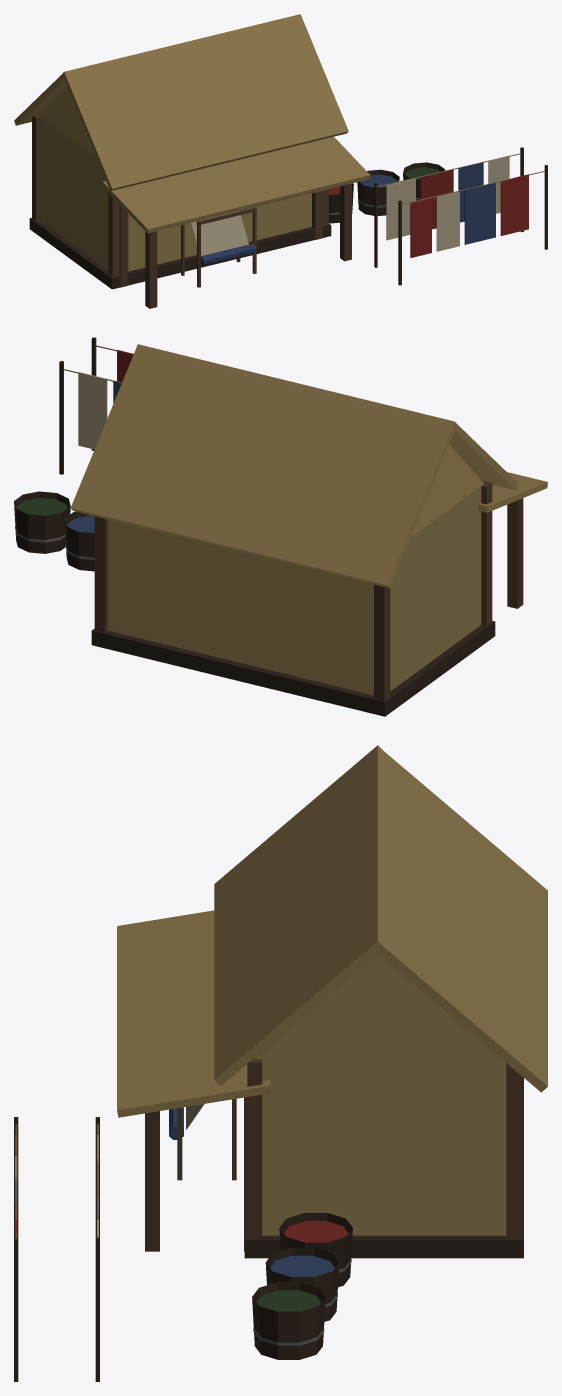
Rendered from walk_tidebound_weaver.glb.
The picture shows the model from 3 angles, top to bottom: view 1: azimuth 30°, elevation 25°; view 2: azimuth 150°, elevation 25°; view 3: azimuth 270°, elevation 25°; orthographic projection. The views are drawn at different scales.
Parts seen in each view (by area): view 1: walk_tidebound_weaver_roof, walk_tidebound_weaver; view 2: walk_tidebound_weaver, walk_tidebound_weaver_roof; view 3: walk_tidebound_weaver_roof, walk_tidebound_weaver.
Part boxes in pixels (left/top/right/bottom): walk_tidebound_weaver_roof: left=14, top=14, right=370, bottom=233; walk_tidebound_weaver: left=29, top=86, right=547, bottom=308; walk_tidebound_weaver: left=14, top=337, right=523, bottom=716; walk_tidebound_weaver_roof: left=70, top=344, right=547, bottom=588; walk_tidebound_weaver_roof: left=117, top=745, right=547, bottom=1117; walk_tidebound_weaver: left=14, top=953, right=523, bottom=1381.
Size of what is drawn, in the model's own units: 10.83 by 5.25 by 7.83.
Materials: 2 (2 with a texture image).
